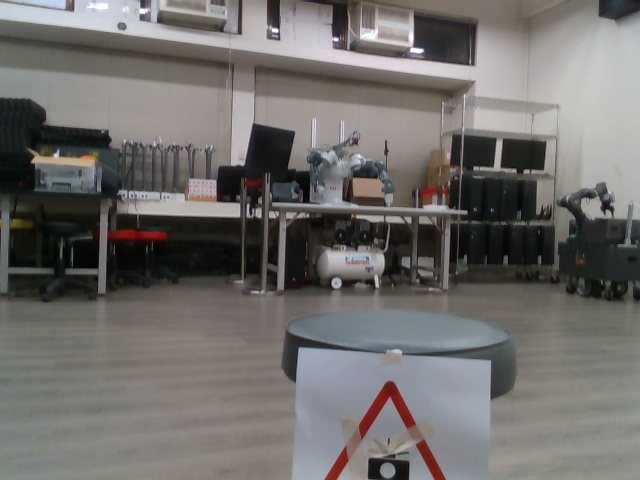camera: (316, 378, 455, 480)
